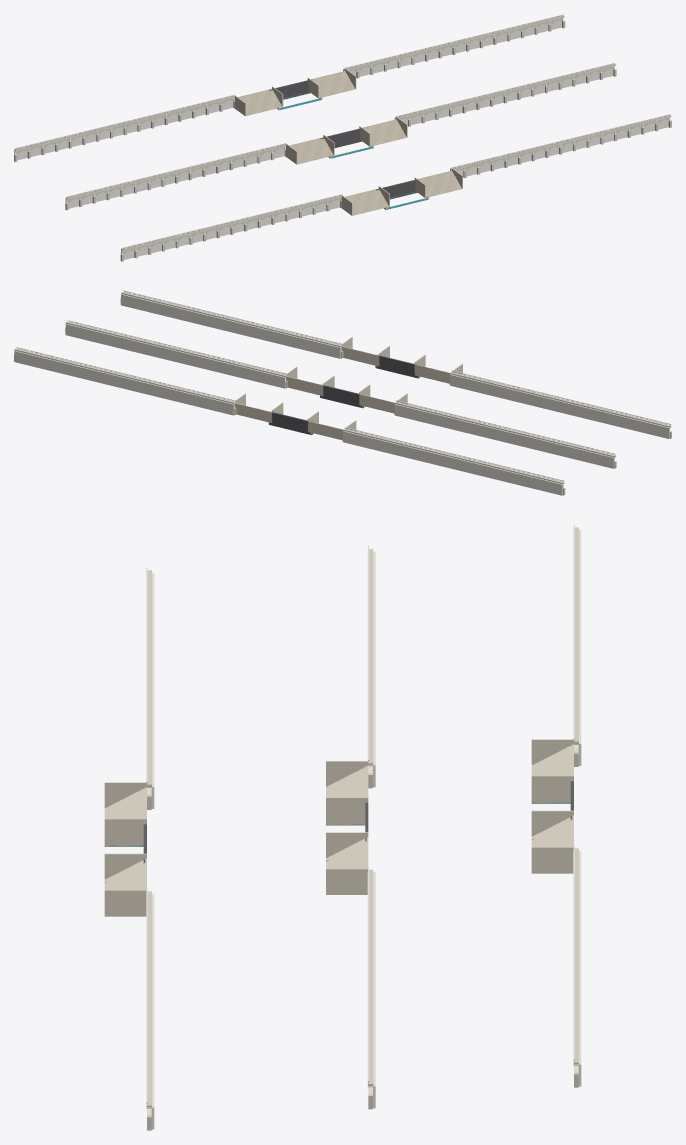
File: E7-7_Arq_Eixo.fbx
3 views of the same model, one above another, from view 1: azimuth 30°, elevation 25°; view 2: azimuth 150°, elevation 25°; view 3: azimuth 270°, elevation 25° (orthographic). The views are drawn at different scales.
Parts seen in each view (by area): view 1: E7-7_Arq_Eixo; view 2: E7-7_Arq_Eixo; view 3: E7-7_Arq_Eixo.
Part boxes in pixels (bbox=[...]): E7-7_Arq_Eixo: bbox=[14, 14, 671, 261]; E7-7_Arq_Eixo: bbox=[14, 290, 671, 495]; E7-7_Arq_Eixo: bbox=[104, 524, 581, 1130].
Bounding box in the file's own units: 241 × 15.77 × 90.41.
